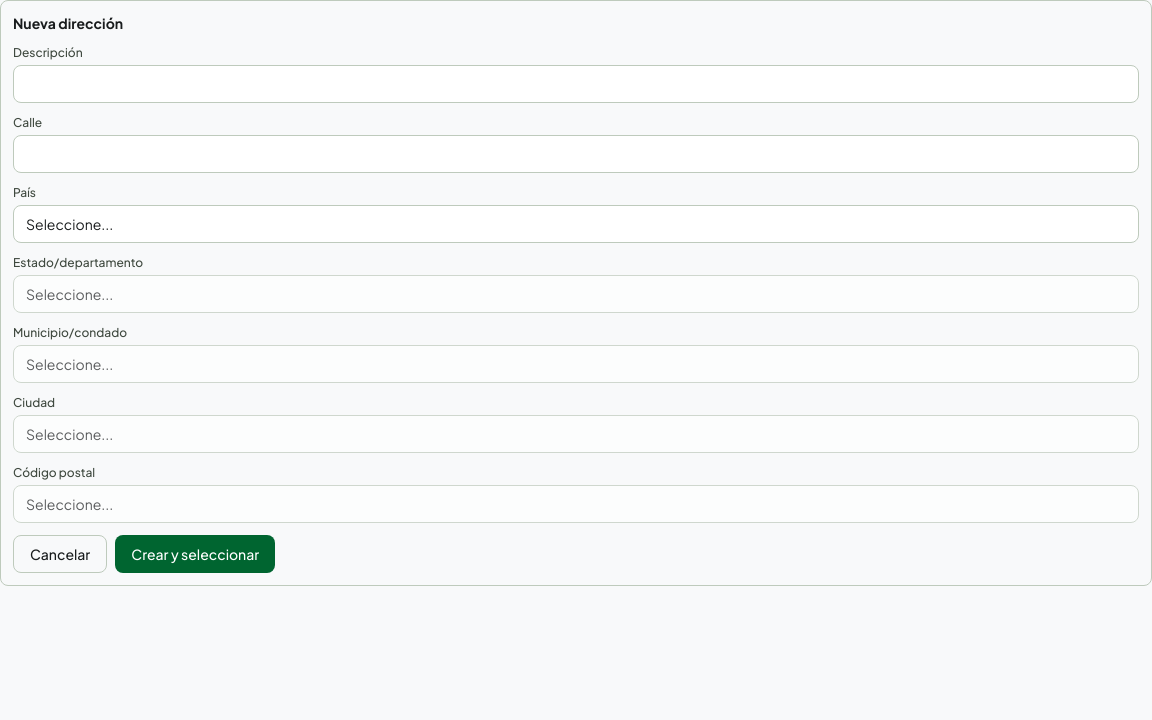
it: NewAddressForm › renders creation errors without notifying success (unstructured error)
Type " Casa " into the field labelled "Descripción" at [576, 84], box [13, 65, 1139, 103]
Type " Calle 1 " into the field labelled "Calle" at [576, 154], box [13, 135, 1139, 173]
Select "GTM · GTM" in the dropdown labelled "País" at [576, 224], box [13, 205, 1139, 243]
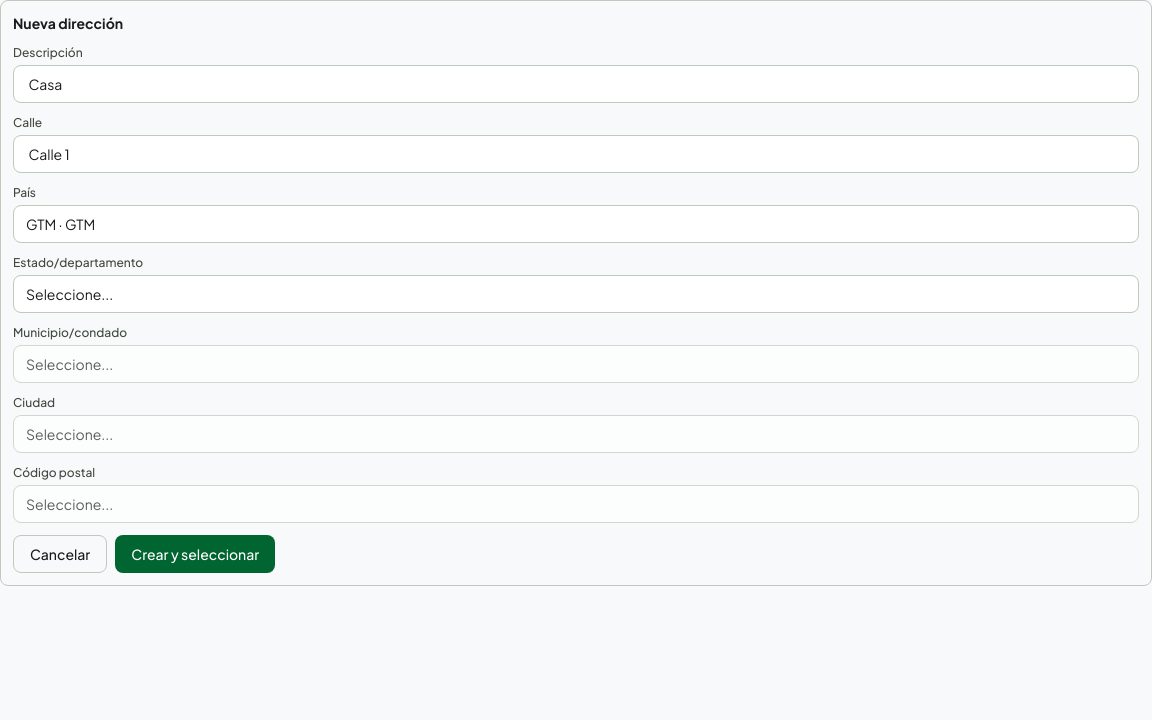
Select "01 · 01" in the dropdown labelled "Estado/departamento" at [576, 294], box [13, 275, 1139, 313]
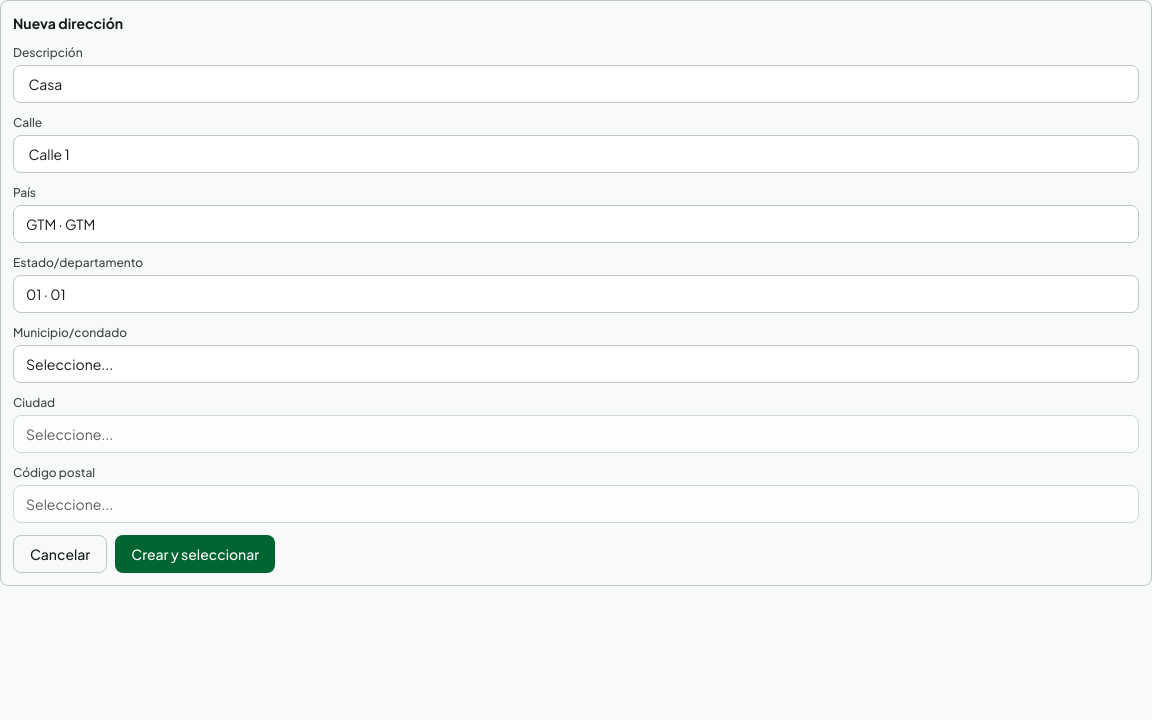
Select "0101 · 0101" in the dropdown labelled "Municipio/condado" at [576, 364], box [13, 345, 1139, 383]
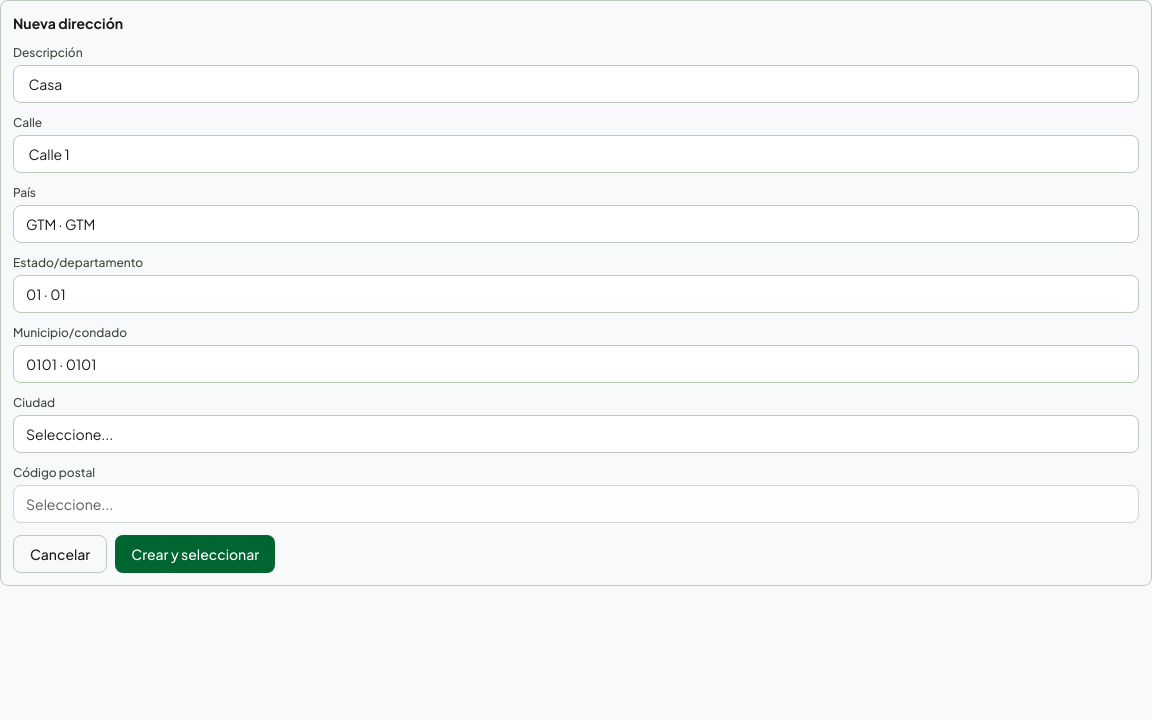
Select "GUA" in the dropdown labelled "Ciudad" at [576, 434], box [13, 415, 1139, 453]
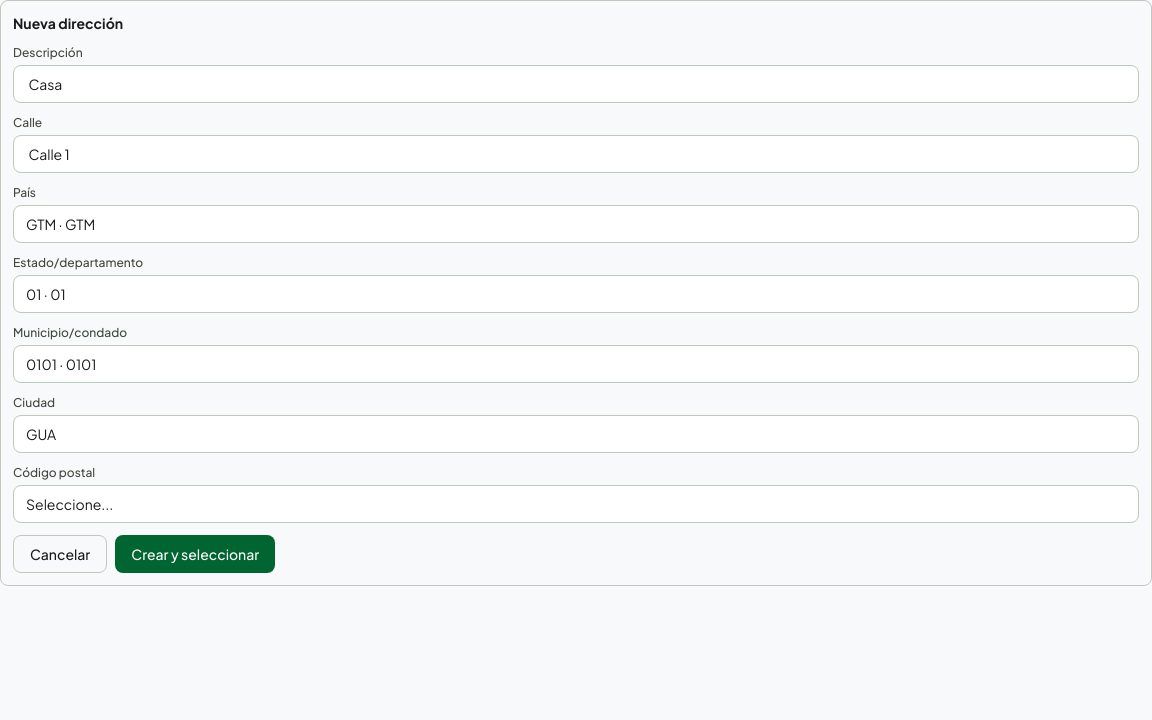
Select "01001" in the dropdown labelled "Código postal" at [576, 504], box [13, 485, 1139, 523]
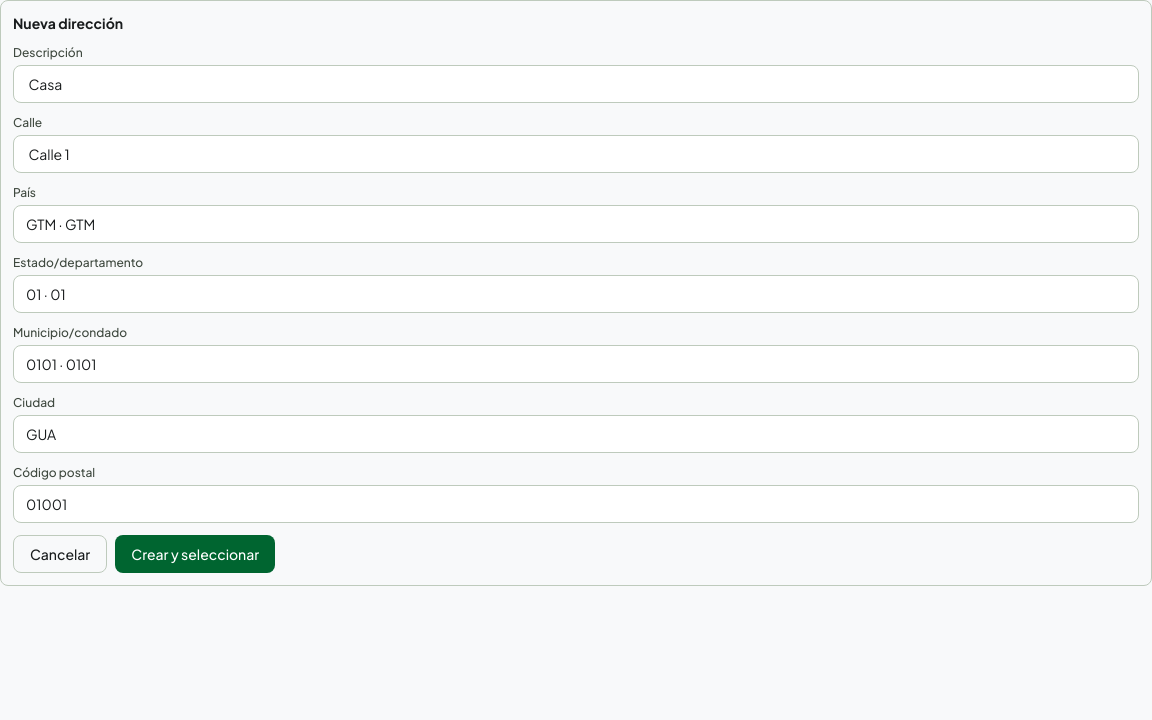
Click the button "Crear y seleccionar" at [195, 554], box [115, 535, 275, 573]
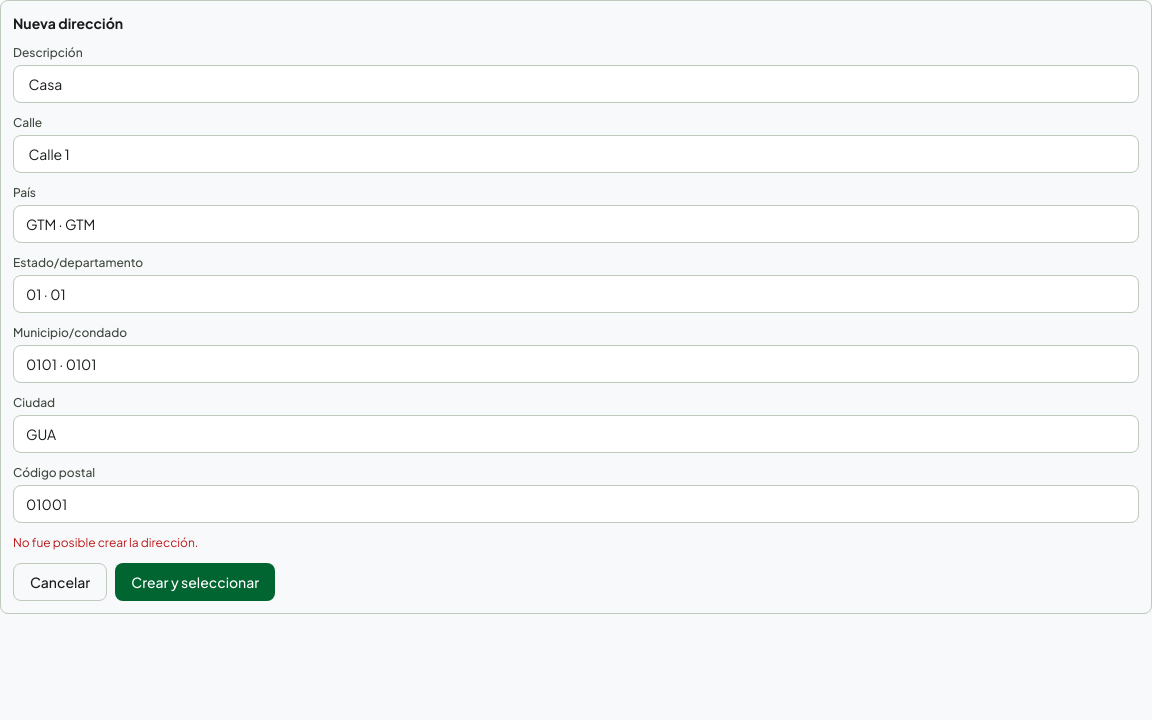
Expected: the message reads "No fue posible crear la dirección.", [13, 535, 198, 550]
